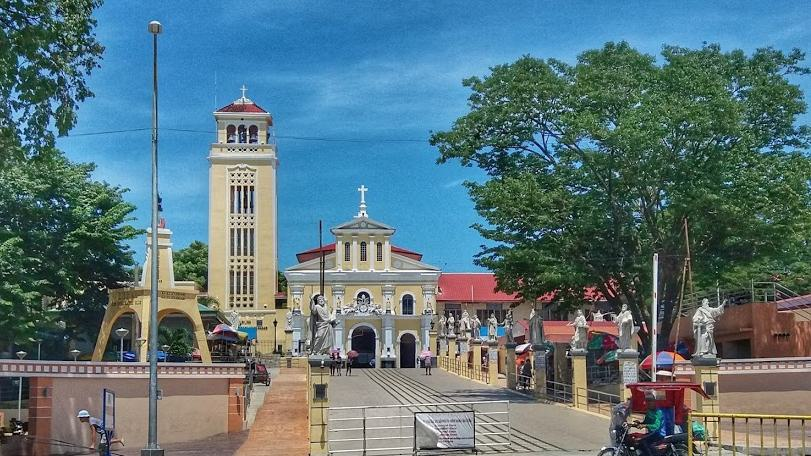manaoag_church_manaoag_pangasinan: (206, 82, 441, 368)
